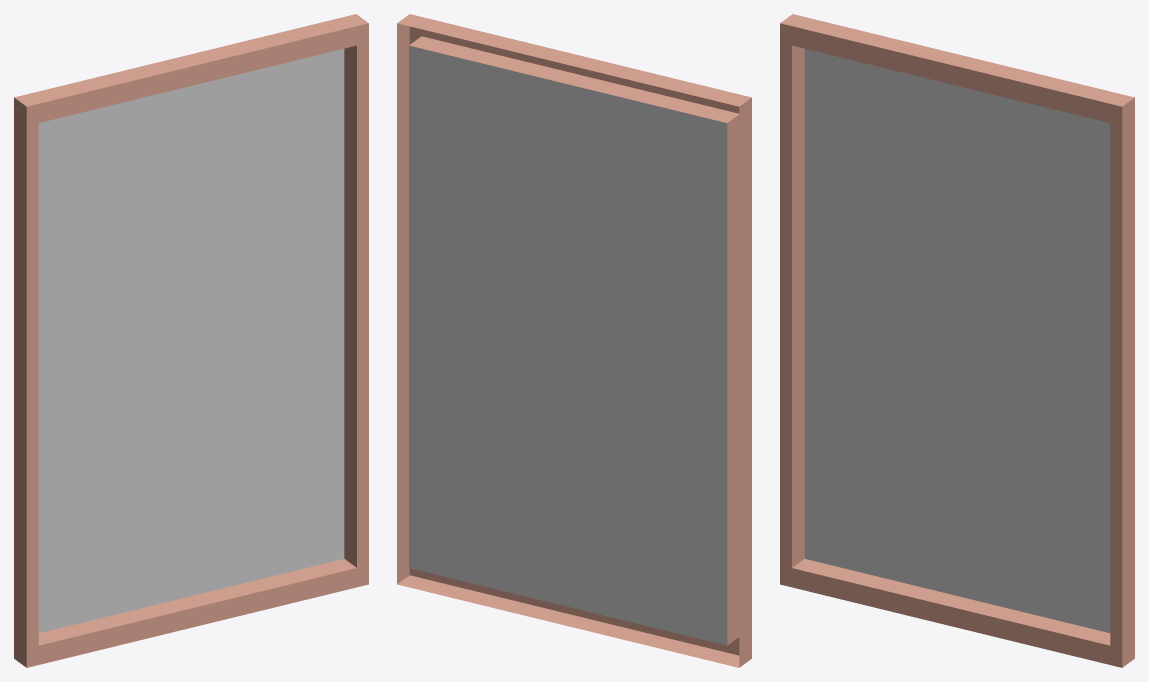
The model's file is portrait.fbx.
The picture shows the model from 3 angles, left to right: view 1: azimuth 30°, elevation 25°; view 2: azimuth 150°, elevation 25°; view 3: azimuth 330°, elevation 25°; orthographic projection.
Parts seen in each view (by area): view 1: Portrait; view 2: Portrait; view 3: Portrait.
Part boxes in pixels (x1=…): Portrait: x1=14, y1=14, x2=368, y2=667; Portrait: x1=397, y1=14, x2=751, y2=667; Portrait: x1=780, y1=14, x2=1134, y2=667.
Size of the model in its own units: 119 by 187 by 7.65.
